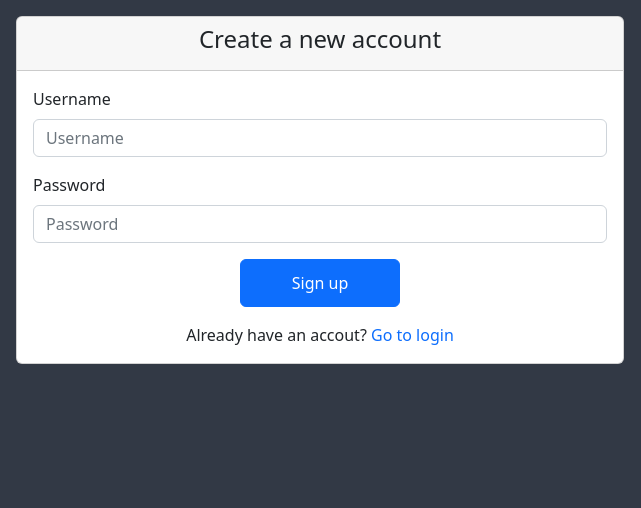
Singup page test › Alert error if username is empty
This screenshot has width=641, height=508.
Type "abc123" into the password field with placeholder "Password" at (320, 224), box 33,205 -> 607,243
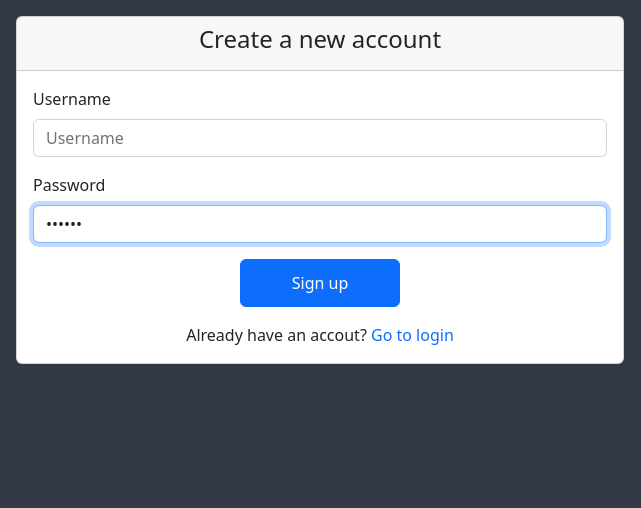
Click the button "Sign up" at (320, 283), box 240,259 -> 400,307
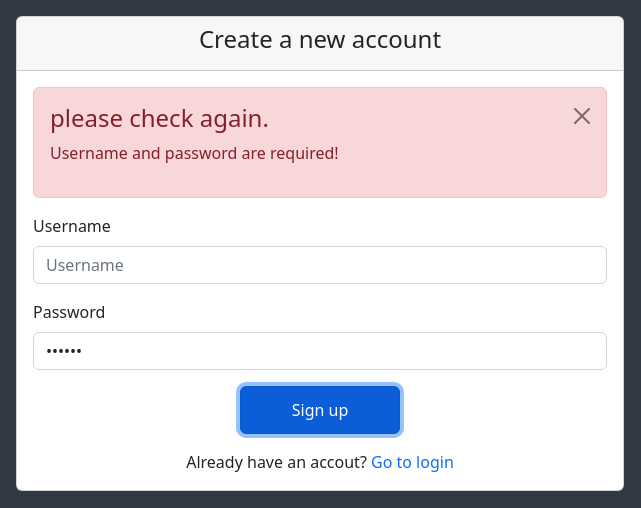
Expected: the text "Username and password are required!" is shown, 50,142 -> 339,164
